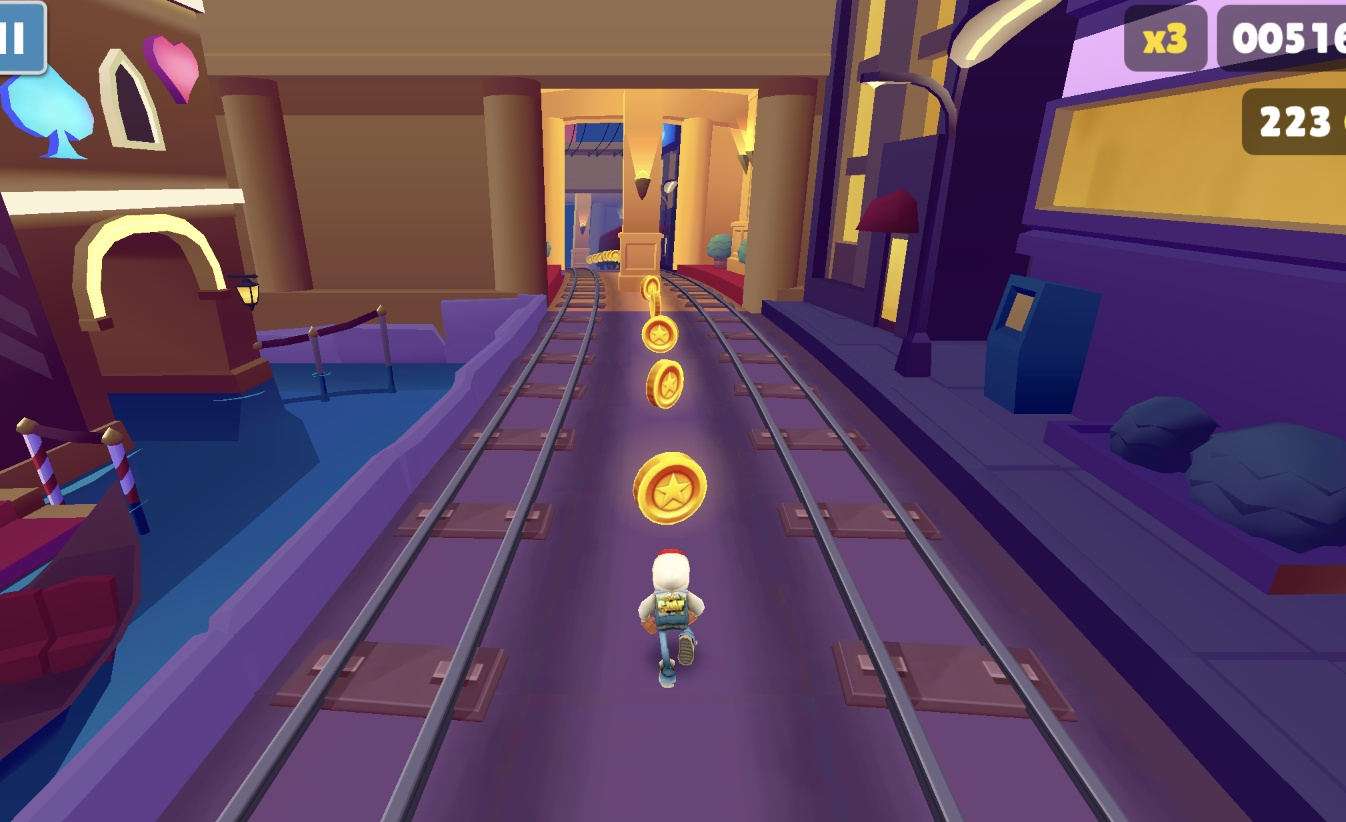pillar: (618, 98, 668, 290)
